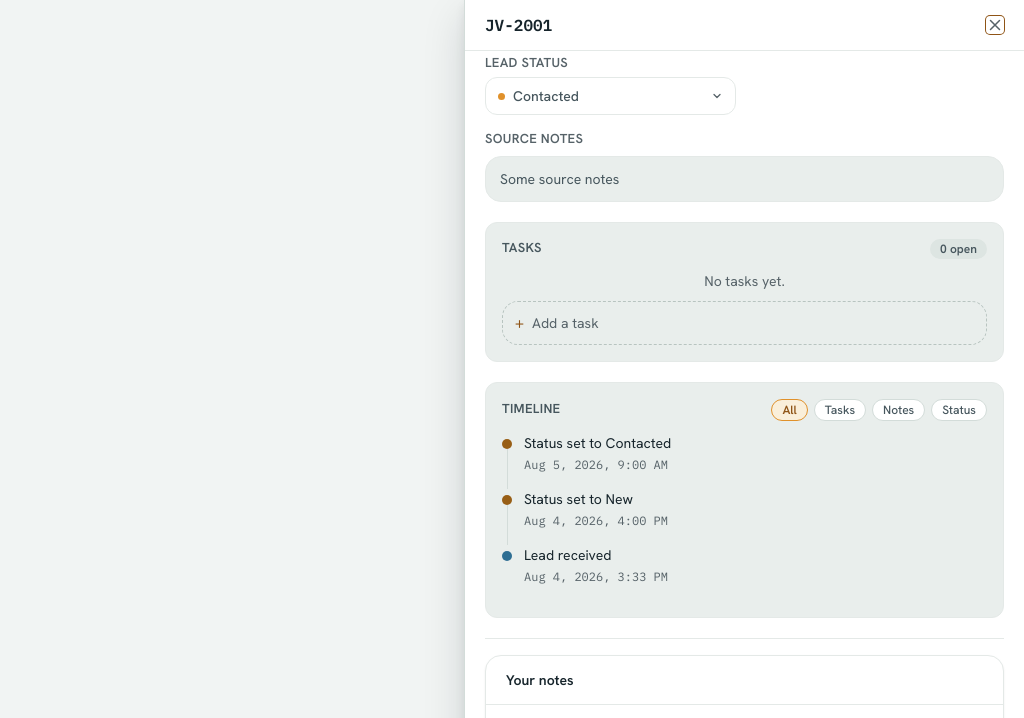
Test: C-12: the portal lead dialog has no separate Status history panel › C-12/PTL-03: every status change renders as a timestamped Timeline entry under the Status filter
(page scrolled)
Click the button "Status". click: [959, 410]
box: [931, 398, 987, 420]
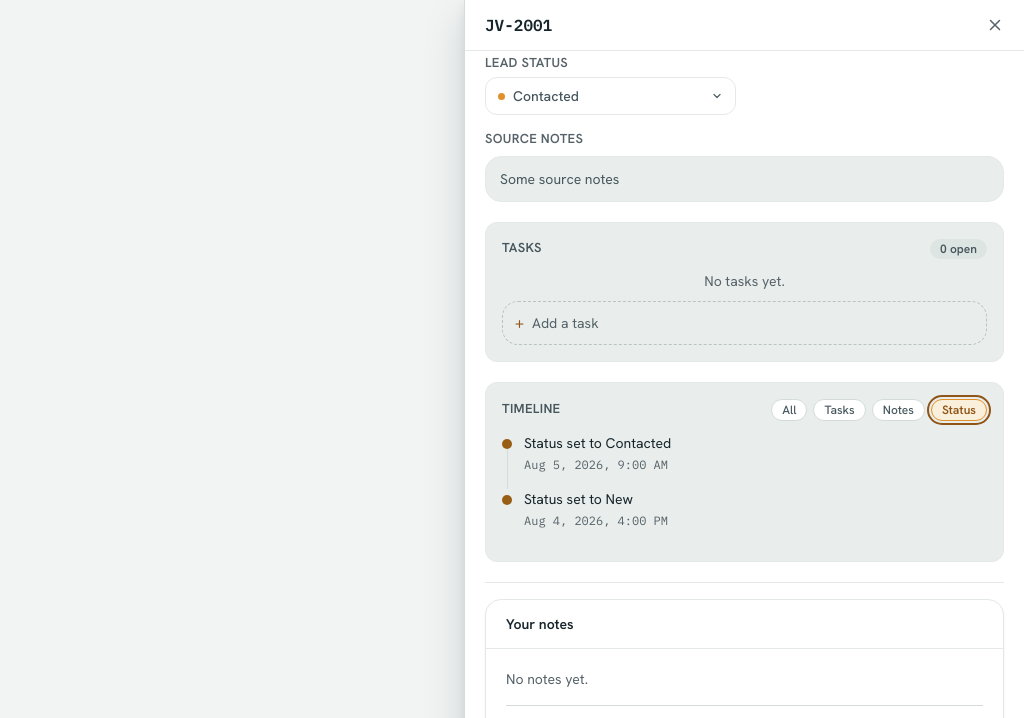
expect the elements "Status set to " read "Status set to Contacted", "Status set to New", in this order: met, box [524, 434, 671, 452]; [524, 490, 633, 508]
expect the text "Lead received" is gone: met
